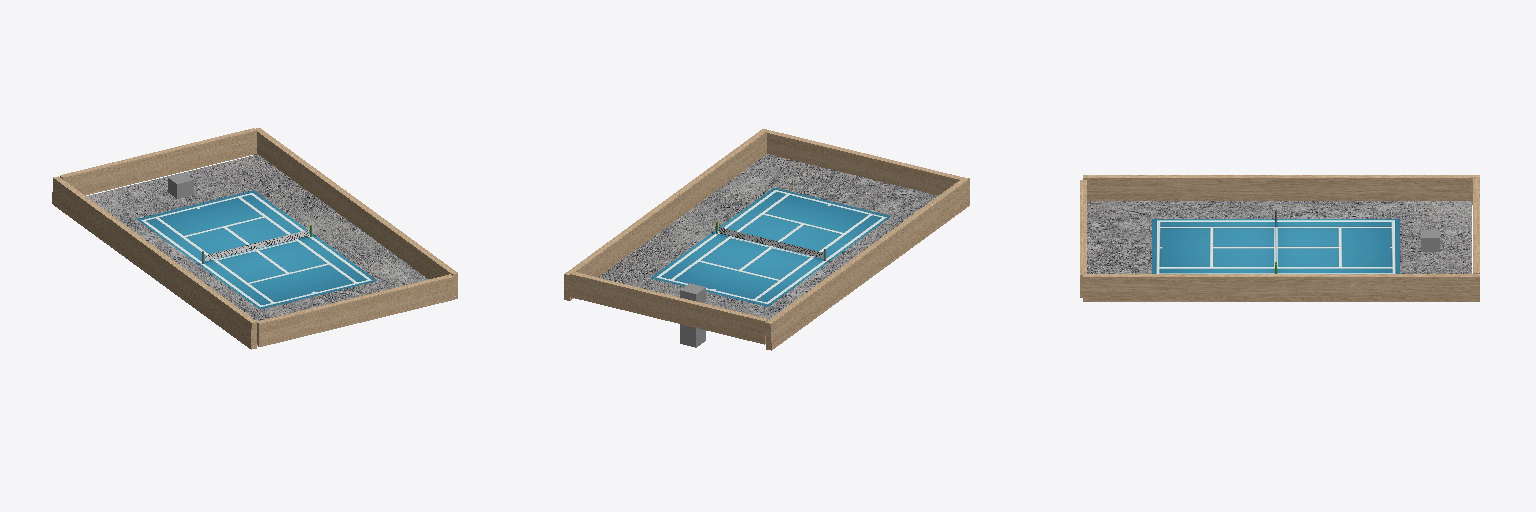
3 renders of one model, left to right at view 1: azimuth 30°, elevation 25°; view 2: azimuth 150°, elevation 25°; view 3: azimuth 270°, elevation 25°, orthographic.
Visible parts, largest first — view 1: Plane.002_Plane.004, Plane_Plane.001, Cube.001_Cube.003, Cube_Cube.002, Cube.003_Cube.005, Cube.002_Cube.004, Plane.001_Plane, Cube.008; view 2: Plane.002_Plane.004, Plane_Plane.001, Cube.001_Cube.003, Cube_Cube.002, Cube.002_Cube.004, Cube.003_Cube.005, Cube.008, Plane.001_Plane; view 3: Plane.002_Plane.004, Plane_Plane.001, Cube_Cube.002, Cube.001_Cube.003, Cube.003_Cube.005, Cube.002_Cube.004.
Boxes of the visible parts, x1=… form: Plane.002_Plane.004: x1=86, y1=154, x2=455, y2=345; Plane_Plane.001: x1=137, y1=190, x2=376, y2=309; Cube.001_Cube.003: x1=52, y1=176, x2=256, y2=349; Cube_Cube.002: x1=254, y1=128, x2=457, y2=299; Cube.003_Cube.005: x1=257, y1=274, x2=453, y2=346; Cube.002_Cube.004: x1=60, y1=128, x2=257, y2=195; Plane.001_Plane: x1=205, y1=230, x2=308, y2=260; Cube.008: x1=168, y1=173, x2=193, y2=198; Plane.002_Plane.004: x1=598, y1=154, x2=937, y2=319; Plane_Plane.001: x1=651, y1=188, x2=890, y2=306; Cube.001_Cube.003: x1=765, y1=177, x2=969, y2=350; Cube_Cube.002: x1=564, y1=129, x2=768, y2=300; Cube.002_Cube.004: x1=570, y1=272, x2=767, y2=344; Cube.003_Cube.005: x1=767, y1=130, x2=963, y2=195; Cube.008: x1=680, y1=283, x2=705, y2=347; Plane.001_Plane: x1=719, y1=227, x2=822, y2=258; Plane.002_Plane.004: x1=1080, y1=201, x2=1471, y2=297; Plane_Plane.001: x1=1152, y1=219, x2=1399, y2=273; Cube_Cube.002: x1=1083, y1=274, x2=1479, y2=301; Cube.001_Cube.003: x1=1083, y1=175, x2=1479, y2=204; Cube.003_Cube.005: x1=1080, y1=180, x2=1086, y2=295; Cube.002_Cube.004: x1=1473, y1=178, x2=1479, y2=273.
Bounding box in the file's own units: 24.99 × 7.17 × 41.76.
11 materials, 7 textured.